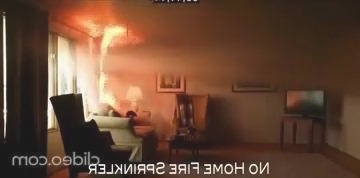fire: (78, 0, 146, 127)
